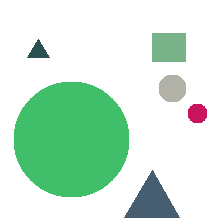circle: (14, 82, 128, 196), (159, 75, 185, 101), (188, 104, 206, 122)
rectangle: (152, 33, 185, 61)
triangle: (124, 170, 179, 217), (27, 39, 49, 57)
